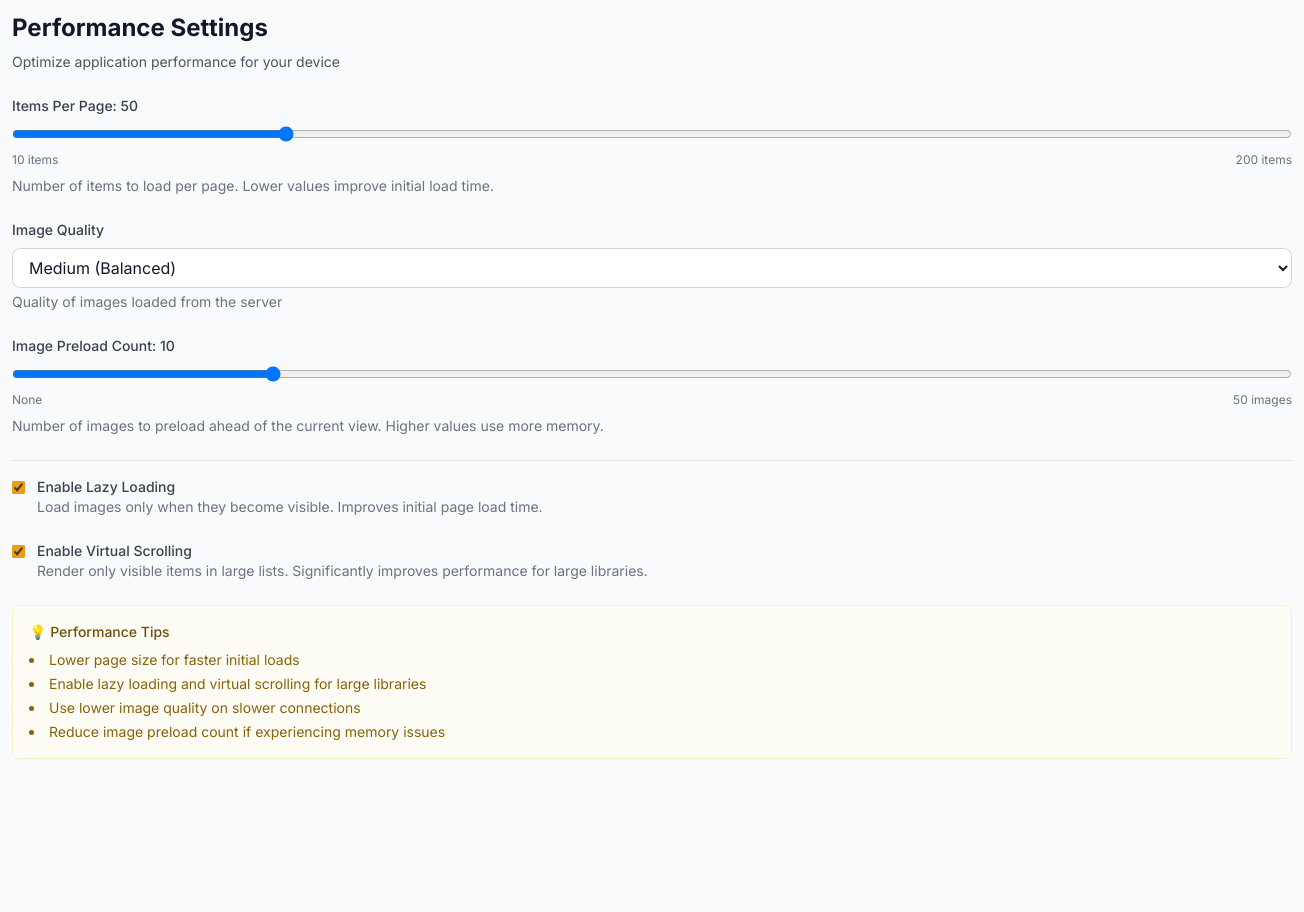
PerformanceSettings › should reset changes when cancel is clicked
The width and height of the screenshot is (1304, 912).
Step 1. Click the checkbox labelled "Enable Lazy Loading" → [18, 488], box [12,481,25,494]
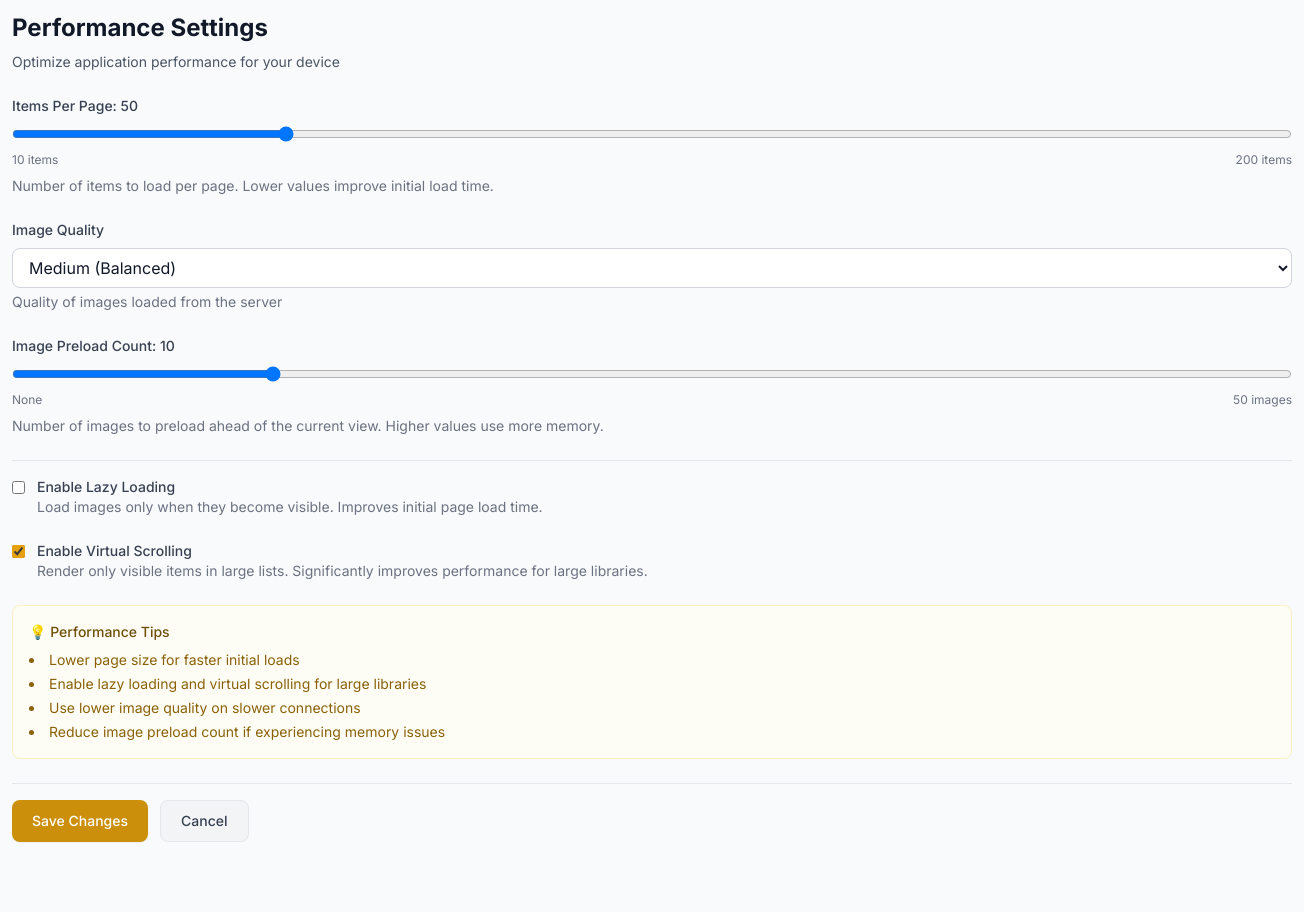
Result: the checkbox labelled "Enable Lazy Loading" is not checked at [12,481,25,494]
Step 2. Click the button "Cancel" → [204, 821], box [160,800,248,842]
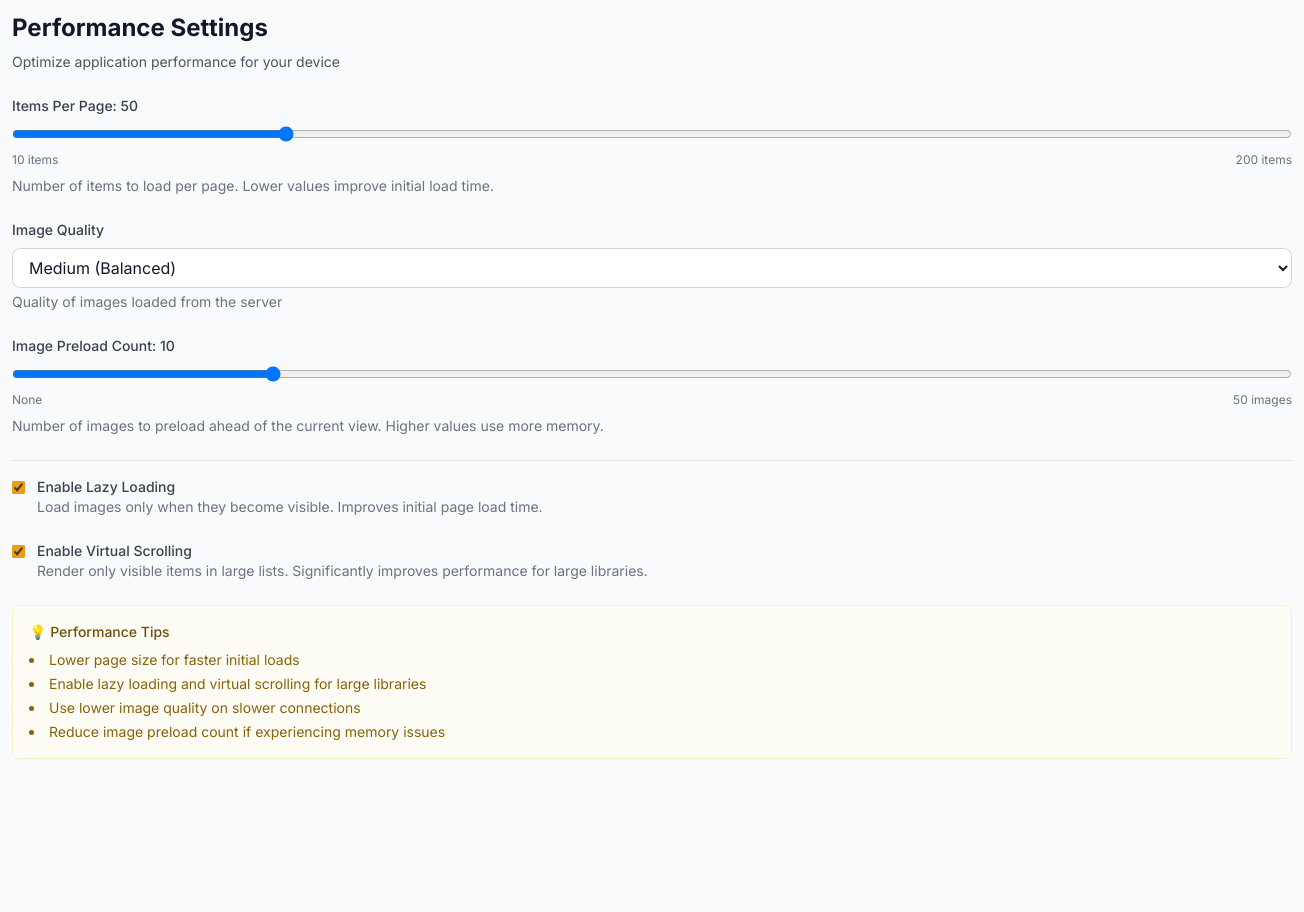
Result: the checkbox labelled "Enable Lazy Loading" is checked at [12,481,25,494]
Result: the button "Save Changes" is gone
